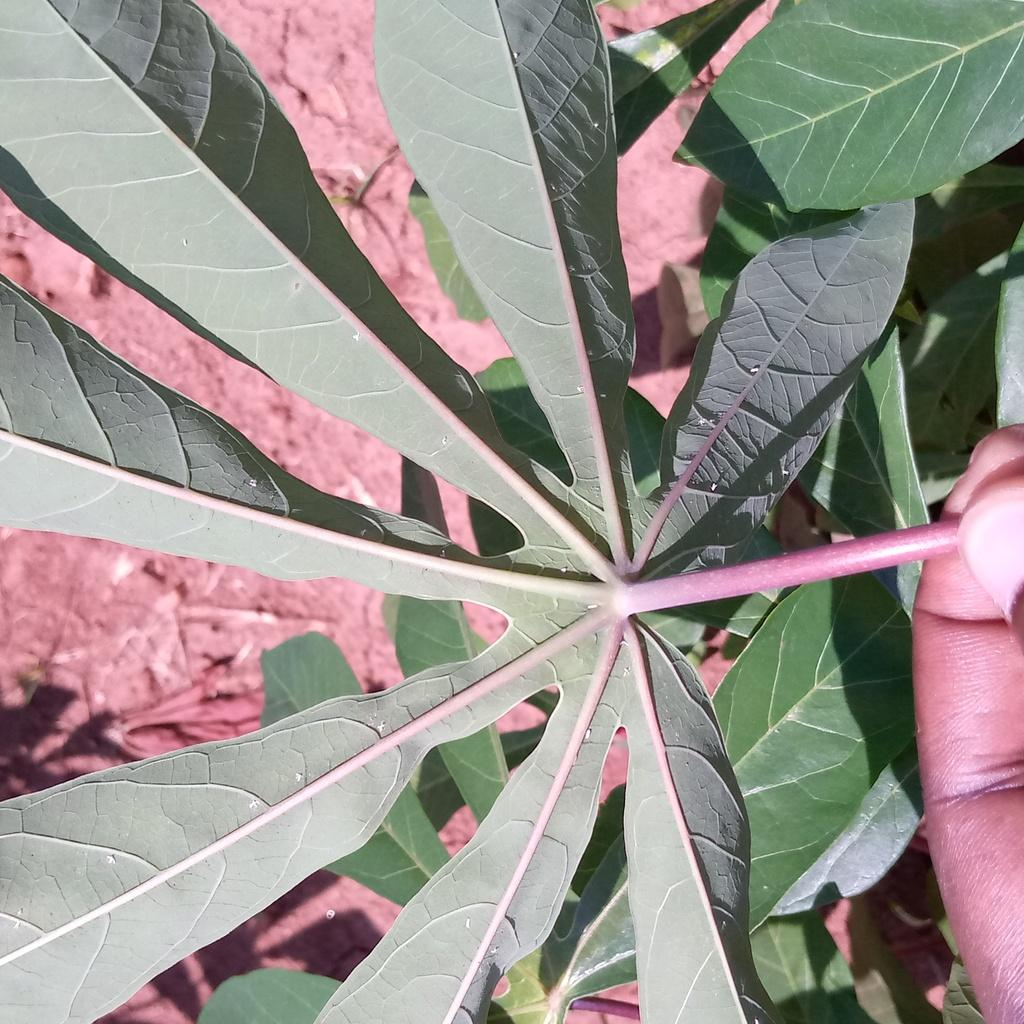adult: (248, 799, 259, 809), (583, 728, 592, 740), (377, 722, 386, 733), (622, 665, 631, 676), (440, 436, 449, 446), (105, 855, 115, 864), (295, 772, 303, 783), (352, 332, 361, 341), (710, 482, 718, 492), (781, 468, 790, 476), (249, 478, 257, 487), (576, 385, 584, 393), (750, 366, 759, 373), (559, 566, 568, 573), (512, 51, 519, 60), (465, 918, 471, 928), (182, 239, 189, 247), (587, 604, 598, 609), (599, 393, 607, 399), (593, 121, 599, 128), (491, 949, 496, 954)
